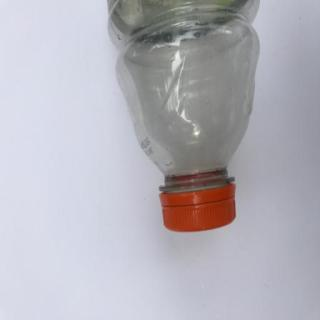Plastic-bottle: (106, 2, 264, 236)
